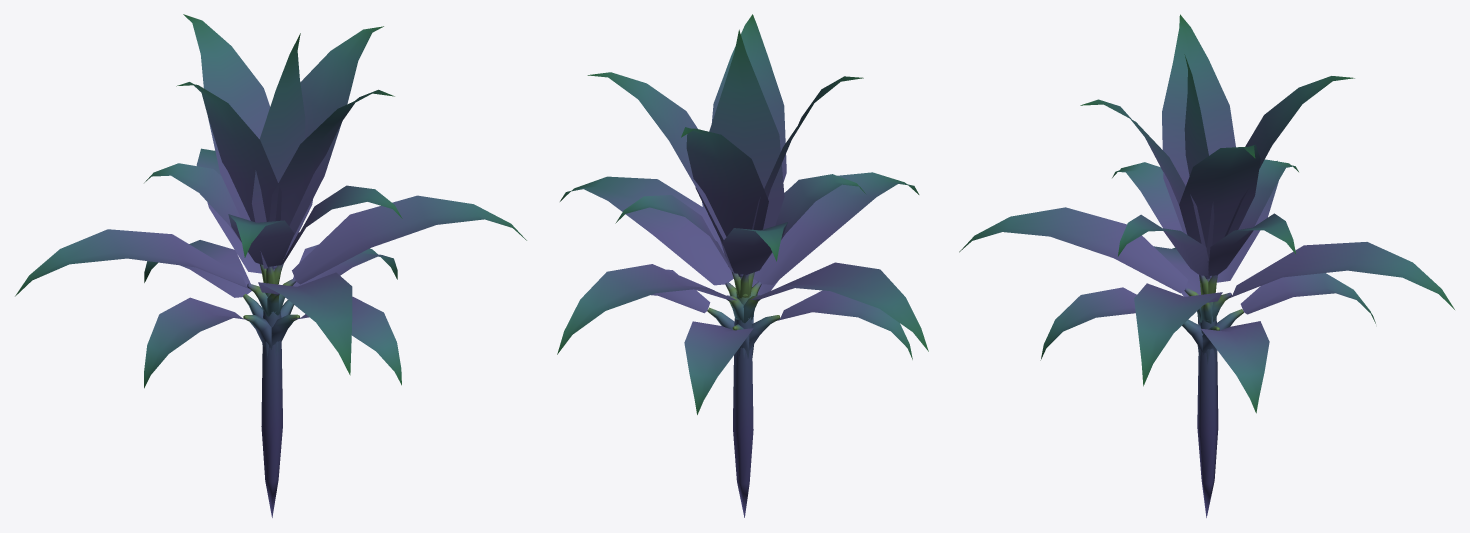
The model's file is plants-leafy-plants-bromeliad_v3.glb.
The picture shows the model from 3 angles, left to right: view 1: azimuth 30°, elevation 25°; view 2: azimuth 150°, elevation 25°; view 3: azimuth 270°, elevation 25°; orthographic projection. The views are drawn at different scales.
Parts seen in each view (by area): view 1: Bromeliad_v3; view 2: Bromeliad_v3; view 3: Bromeliad_v3.
Part boxes in pixels (<box>): Bromeliad_v3: <box>15,14,526,517</box>; Bromeliad_v3: <box>557,14,928,517</box>; Bromeliad_v3: <box>959,14,1454,517</box>.
Bounding box in the file's own units: 0.477 × 0.5 × 0.4769.
